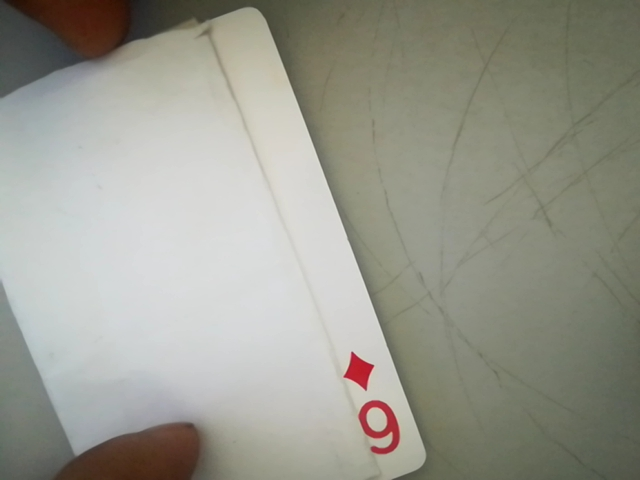fk 6: (333, 344, 413, 470)
